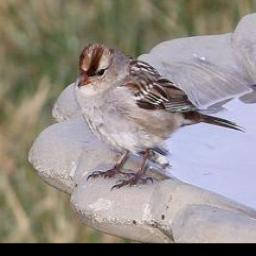Sparrow: (69, 41, 247, 192)
